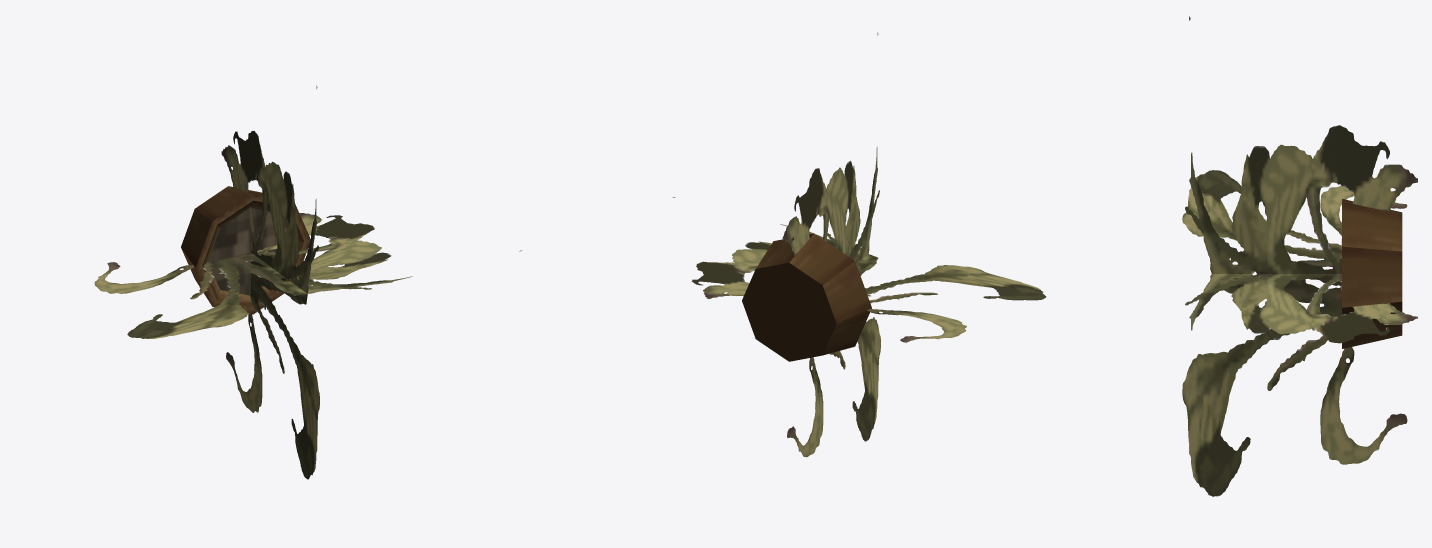
Rendered from pz_plant_native_27.obj.
The picture shows the model from 3 angles, left to right: view 1: azimuth 30°, elevation 25°; view 2: azimuth 150°, elevation 25°; view 3: azimuth 270°, elevation 25°; orthographic projection. The views are drawn at different scales.
Parts seen in each view (by area): view 1: foliage_PNG_crossed_cards, pot_soil_and_rim; view 2: foliage_PNG_crossed_cards, pot_soil_and_rim; view 3: foliage_PNG_crossed_cards, pot_soil_and_rim.
Boxes of the visible parts, <box> form: foliage_PNG_crossed_cards: <box>94,85,522,479</box>; pot_soil_and_rim: <box>181,186,310,314</box>; foliage_PNG_crossed_cards: <box>672,32,1046,457</box>; pot_soil_and_rim: <box>742,233,871,361</box>; foliage_PNG_crossed_cards: <box>1182,16,1417,496</box>; pot_soil_and_rim: <box>1342,199,1402,348</box>.
Bounding box in the file's own units: 2.52 × 2.52 × 1.24.
1 material, 1 textured.
